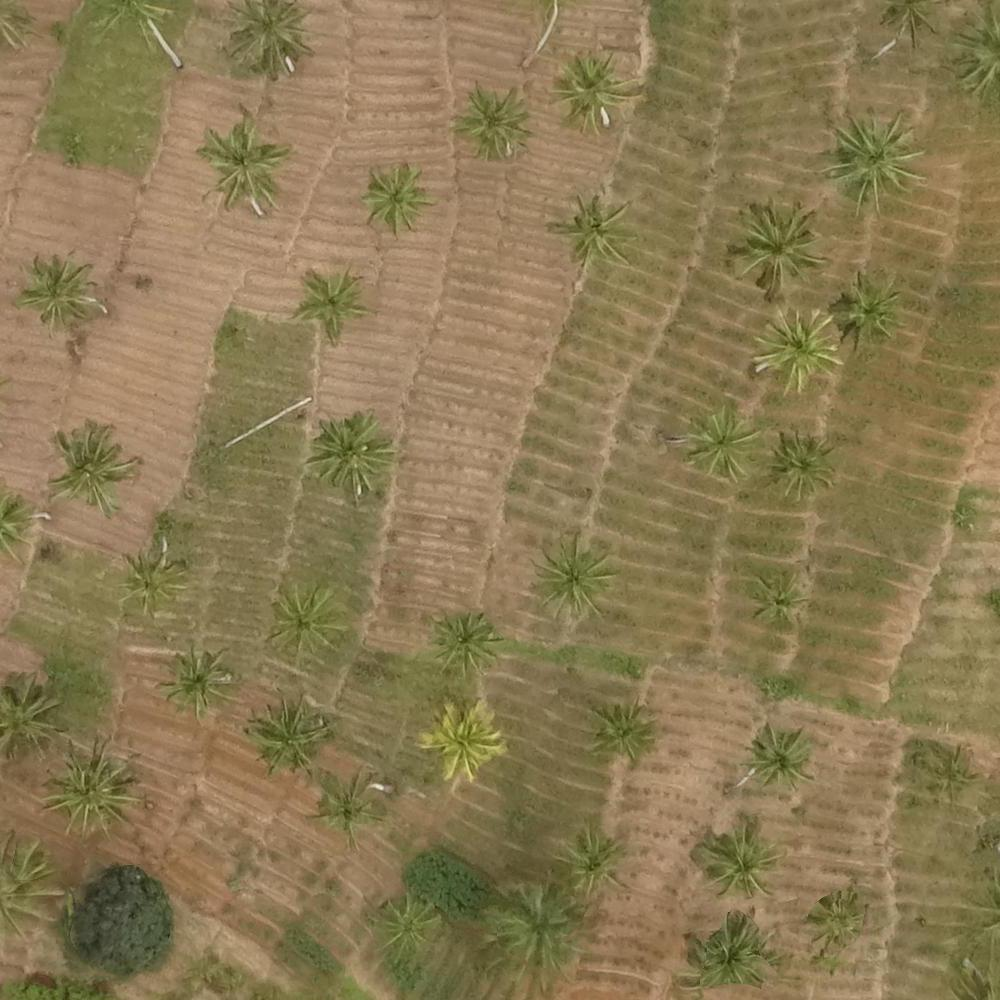not palm: (590, 325, 657, 401), (104, 176, 178, 242), (415, 334, 482, 400), (884, 392, 957, 452), (507, 331, 574, 396), (707, 18, 779, 78), (880, 614, 943, 681), (448, 248, 519, 306), (441, 414, 499, 484), (1, 71, 62, 136), (195, 806, 259, 865), (98, 898, 162, 955), (141, 306, 205, 360), (524, 412, 584, 466), (170, 368, 226, 413)
